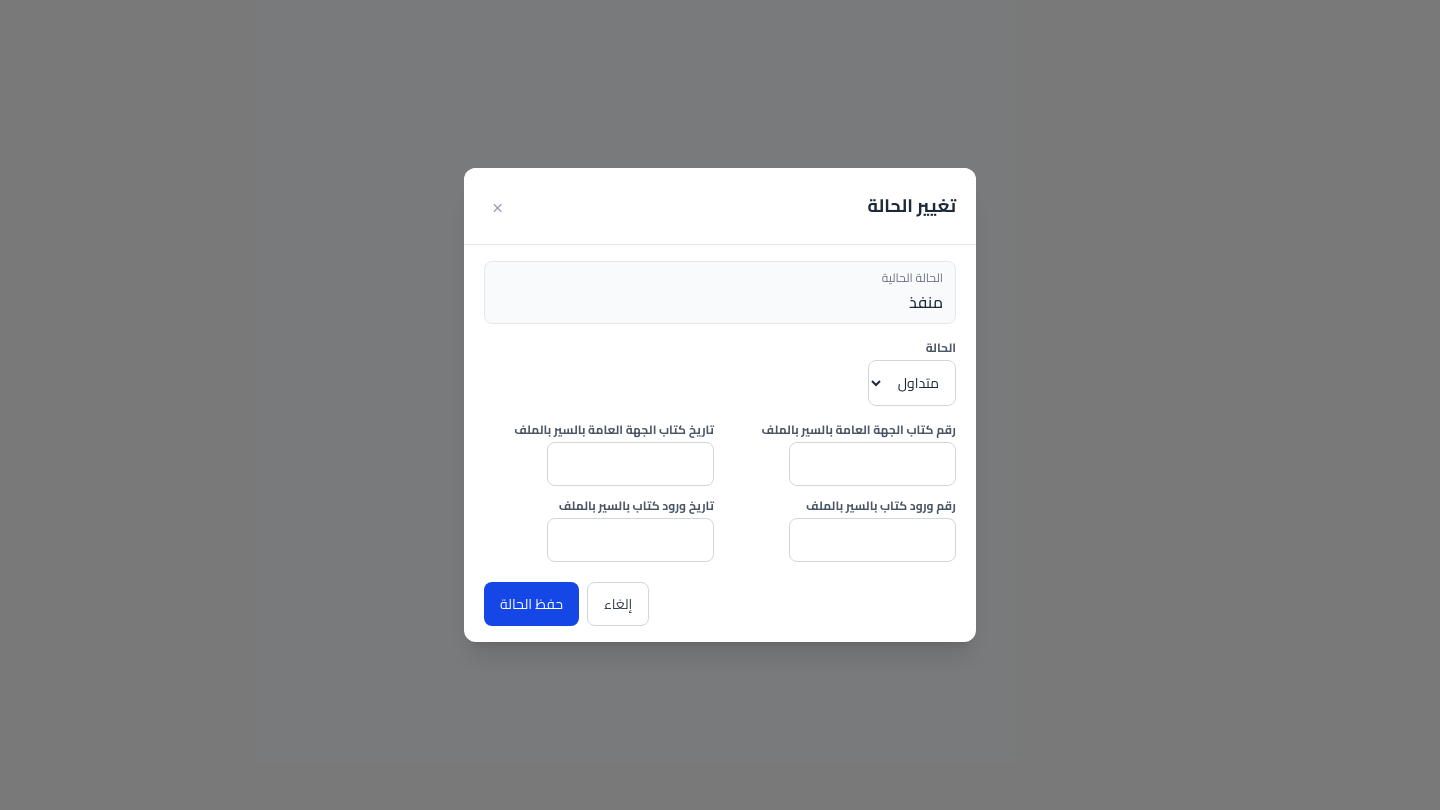
Test: ExecutedStatusModal › يرفض إرجاع «عرض وايداع» من «منفذ» إلى متداول دون حقول السير بالملف
Expected: the dropdown labelled "الحالة" is shown, x1=868 y1=360 x2=956 y2=406
Click the button "حفظ الحالة" at (532, 604), box x1=484 y1=582 x2=579 y2=626
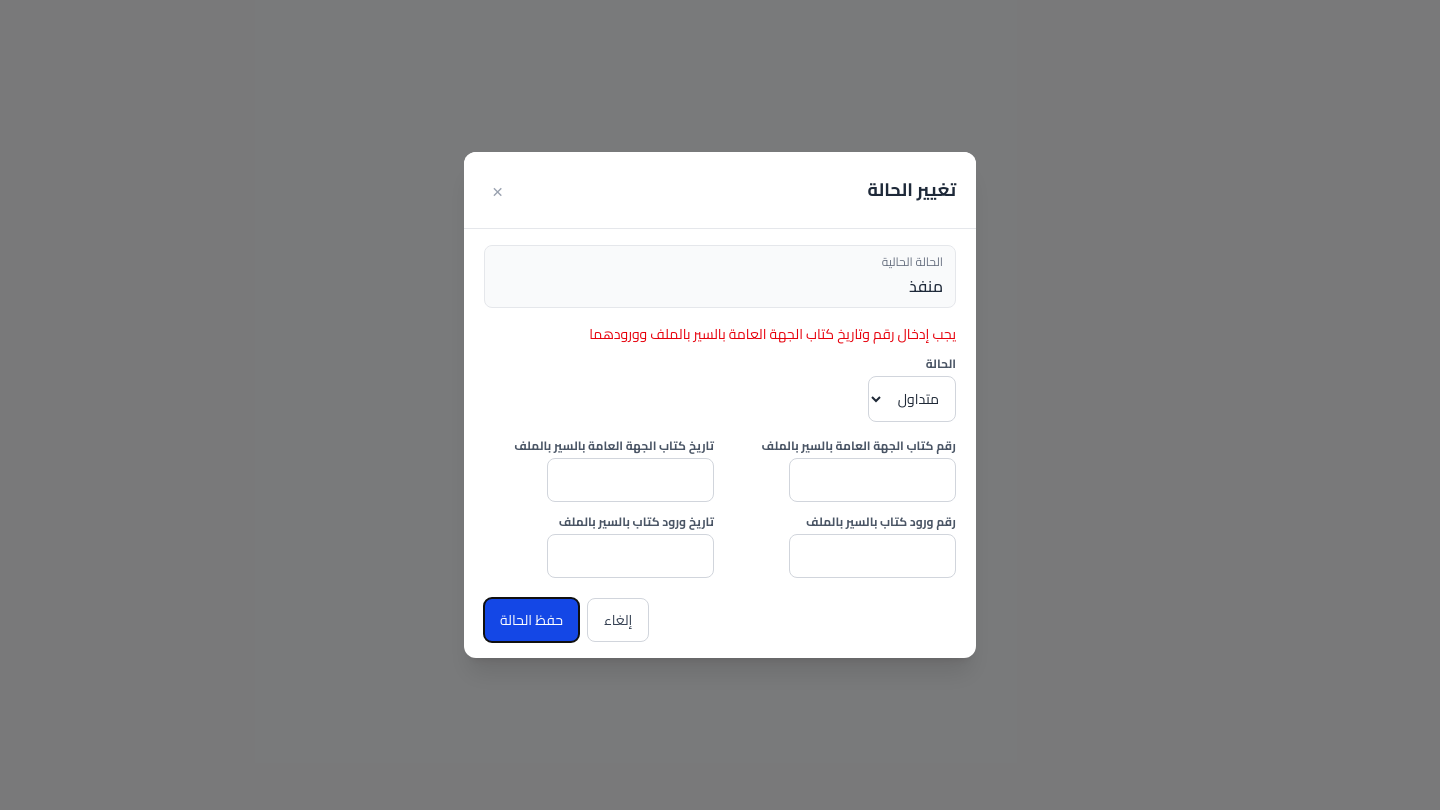
Expected: the text "يجب إدخال رقم وتاريخ كتاب الجهة العامة بالسير بالملف وورودهما" is shown, x1=589 y1=321 x2=956 y2=347
